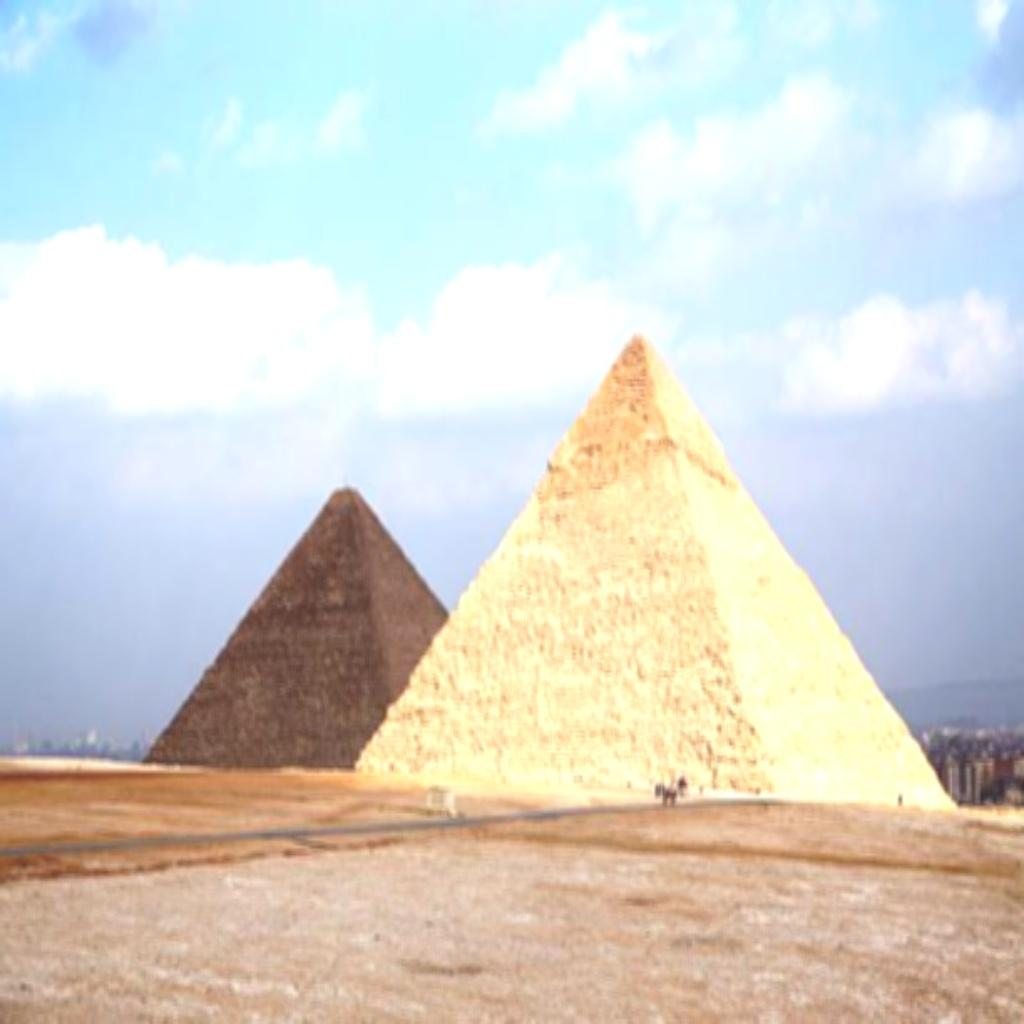Great Pyramids of Giza: (139, 324, 959, 810)
